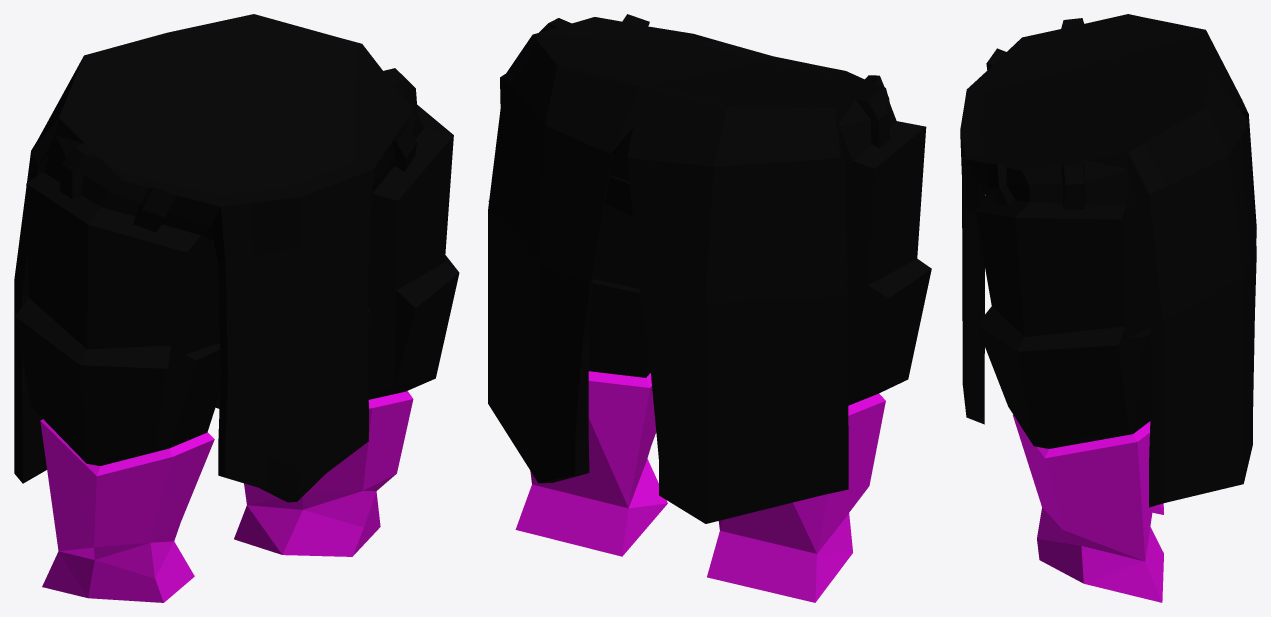
File: Chr_Hips_Male_Static_20.fbx
3 views of the same model, side by side, from view 1: azimuth 30°, elevation 25°; view 2: azimuth 150°, elevation 25°; view 3: azimuth 270°, elevation 25° (orthographic). The views are drawn at different scales.
Parts seen in each view (by area): view 1: Chr_Hips_Male_20; view 2: Chr_Hips_Male_20; view 3: Chr_Hips_Male_20.
Part boxes in pixels (x1=…): Chr_Hips_Male_20: x1=14, y1=14, x2=459, y2=602; Chr_Hips_Male_20: x1=488, y1=14, x2=931, y2=602; Chr_Hips_Male_20: x1=960, y1=14, x2=1256, y2=602.
Size of the model in its own units: 46.66 by 55.45 by 31.94.
